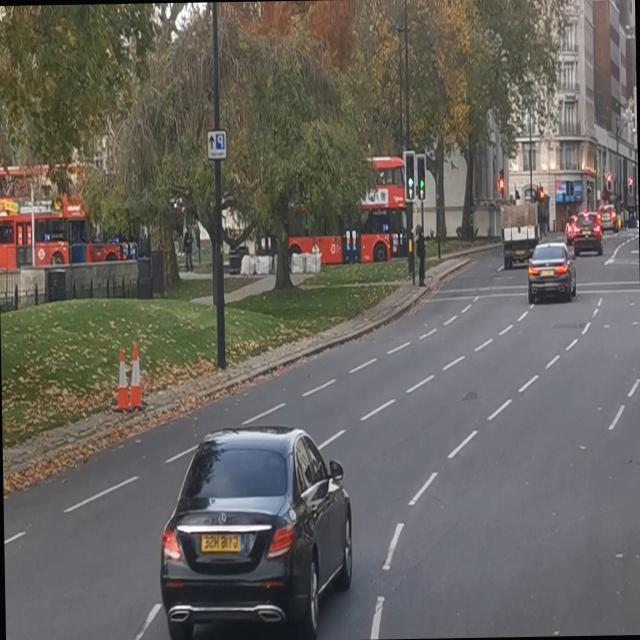Vehicle: (154, 423, 359, 640), (524, 242, 576, 308), (497, 194, 542, 268), (572, 210, 602, 260)
